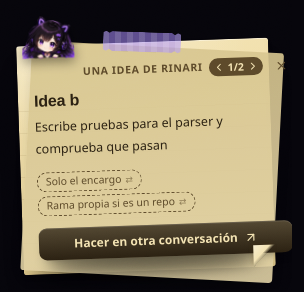
it: StickyNote › accepting opens another conversation; the next note takes its place
Step 1. Click the button "Hacer en otra conversación" → (165,240), box [38,220,292,261]
(page scrolled)
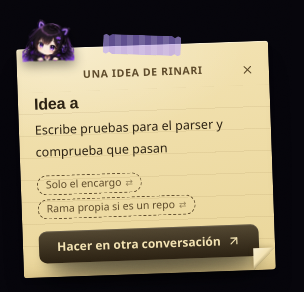
Now the element with test id "followup-note" shows "Idea a", box [34,95,79,113]
